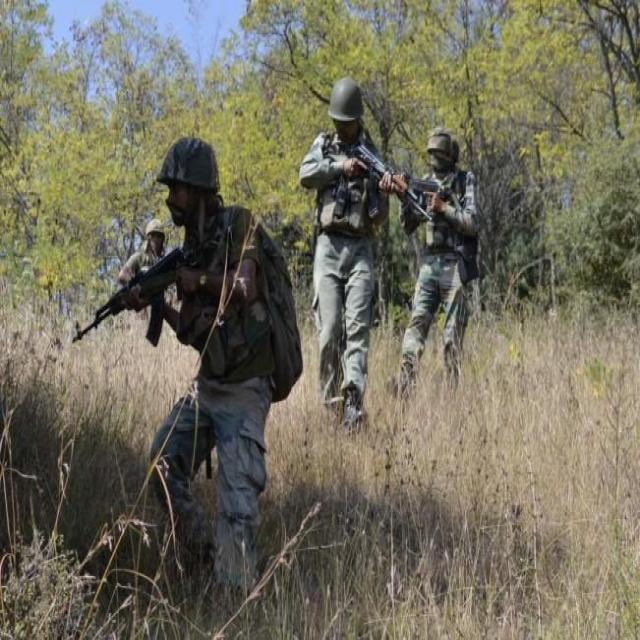Forest: (0, 0, 640, 640)
Militant: (94, 109, 296, 615), (281, 48, 392, 447), (379, 107, 486, 435), (102, 152, 175, 385)
